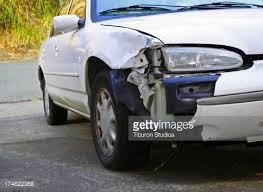fender-dent: (84, 24, 165, 96)
front-bumper-dent: (137, 89, 230, 147)
